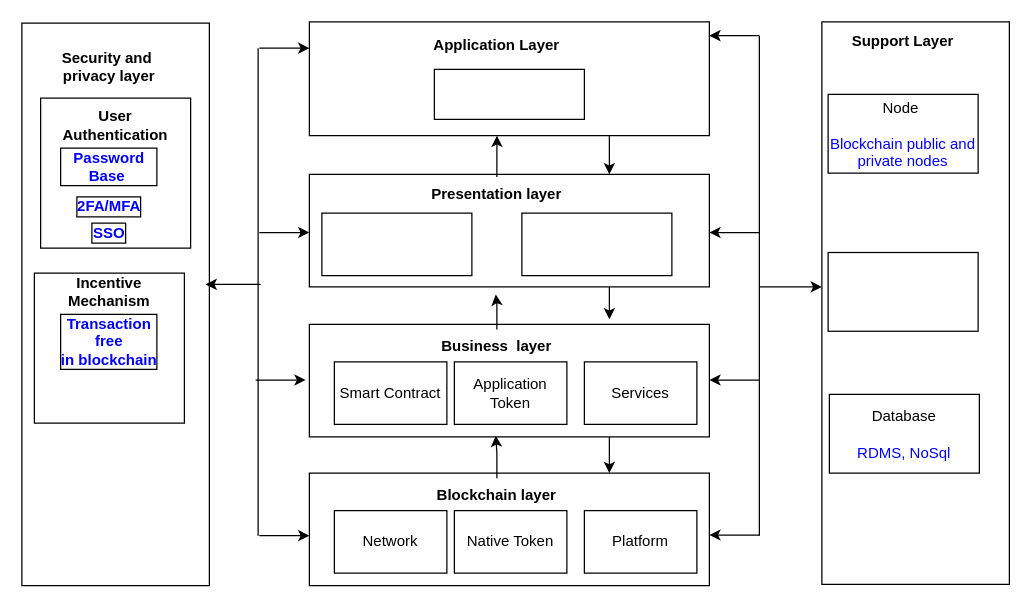
The diagram is 1031 pixels wide and 608 high, and some of its shapes have lost their labels. Here are the shapes that lost their labels. From the top down, the box of each, then its label:
(433, 68, 584, 119): Uniswap / Pancakeswap
(321, 212, 472, 276): End-User Interface Web App & Mobile App
(521, 212, 672, 276): Digital Wallet MetaMask
(827, 251, 978, 331): Server Cloud Server AWS/Azure
